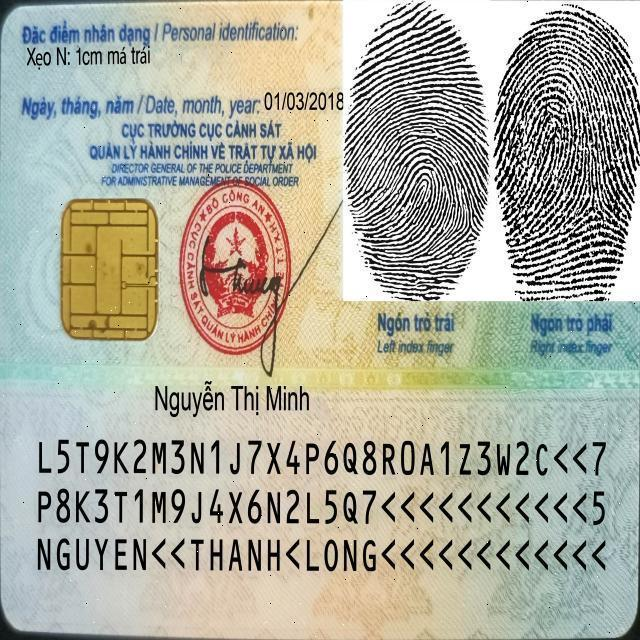features: (22, 38, 166, 76)
finger_print: (492, 0, 640, 365), (342, 0, 492, 357)
issue_date: (261, 81, 346, 116)
